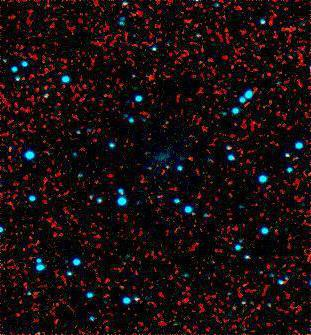star: (178, 143, 208, 173)
